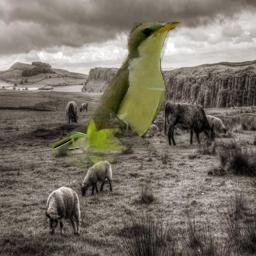Cuckoo: (52, 17, 184, 172)
